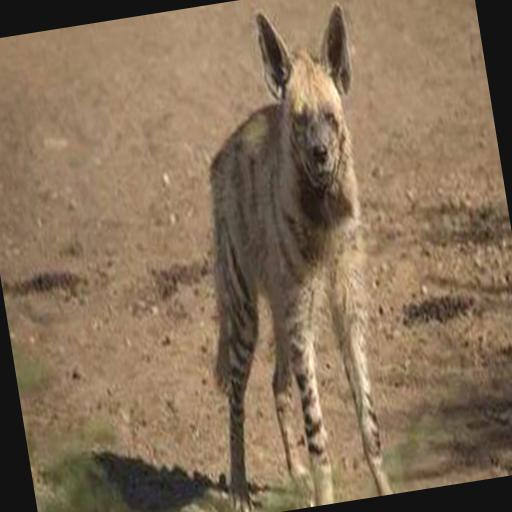hyenas: (131, 0, 507, 512)
